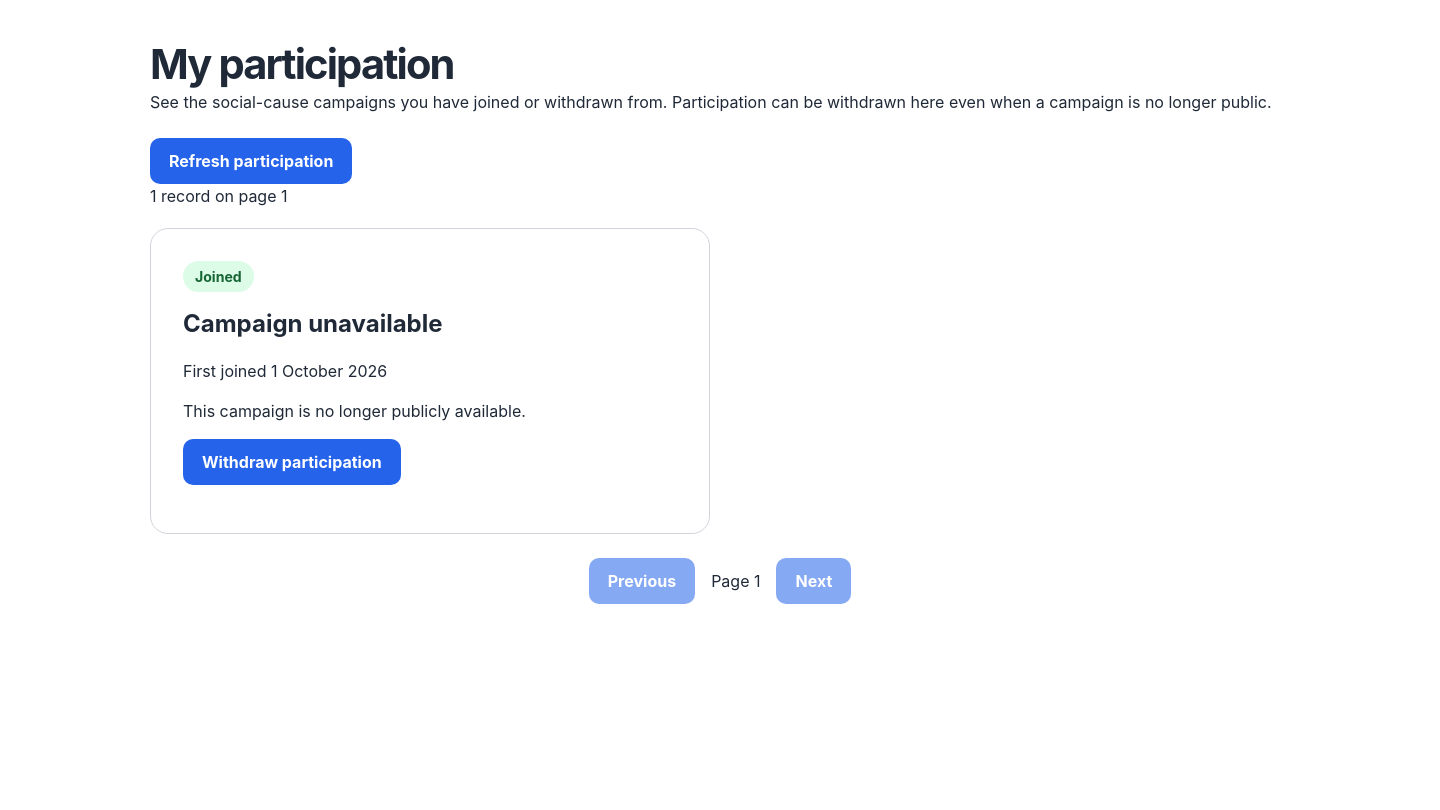
My participation › requires a successful status read after an uncertain network withdrawal
Click the button "Withdraw participation" at (292, 462), box x1=183 y1=439 x2=401 y2=485
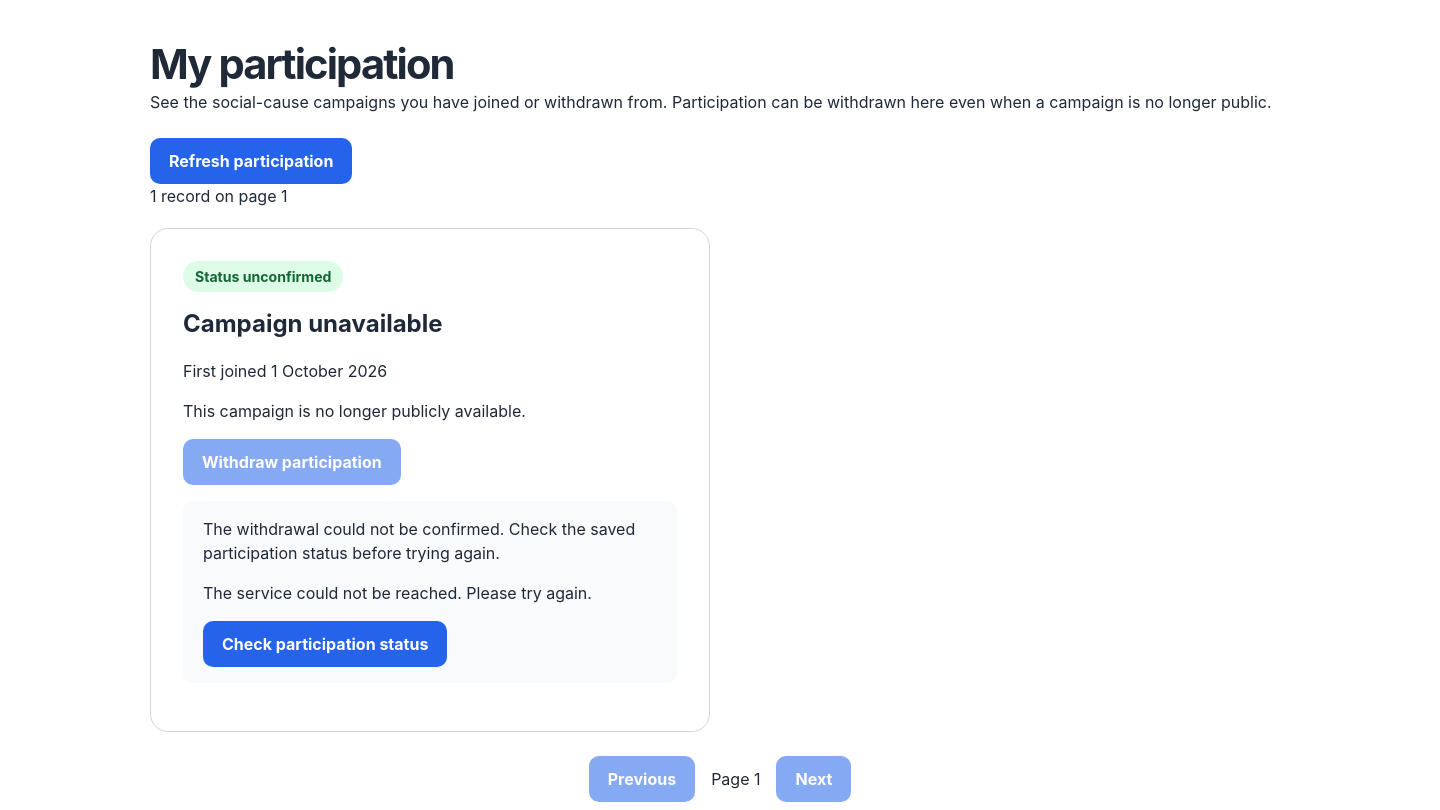
expect the text "Status unconfirmed" is shown: met, box x1=183 y1=261 x2=344 y2=292
expect the button "Withdraw participation" is disabled: met, box x1=183 y1=439 x2=401 y2=485
Click the button "Check participation status" at (325, 644), box x1=203 y1=621 x2=447 y2=667
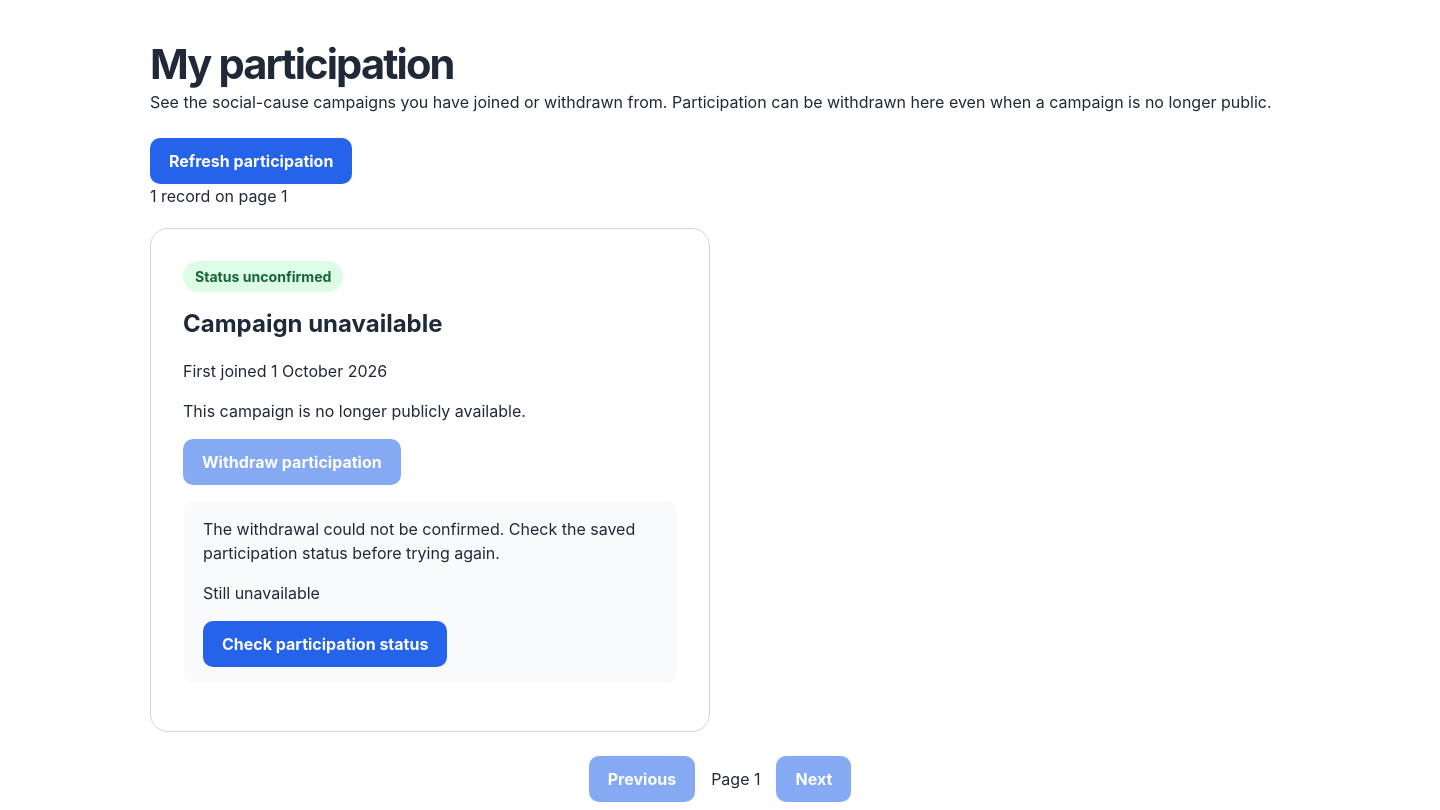
expect the button "Withdraw participation" is disabled: met, box x1=183 y1=439 x2=401 y2=485
expect the text "Still unavailable" is shown: met, box x1=203 y1=583 x2=320 y2=603
Click the button "Check participation status" at (325, 644), box x1=203 y1=621 x2=447 y2=667
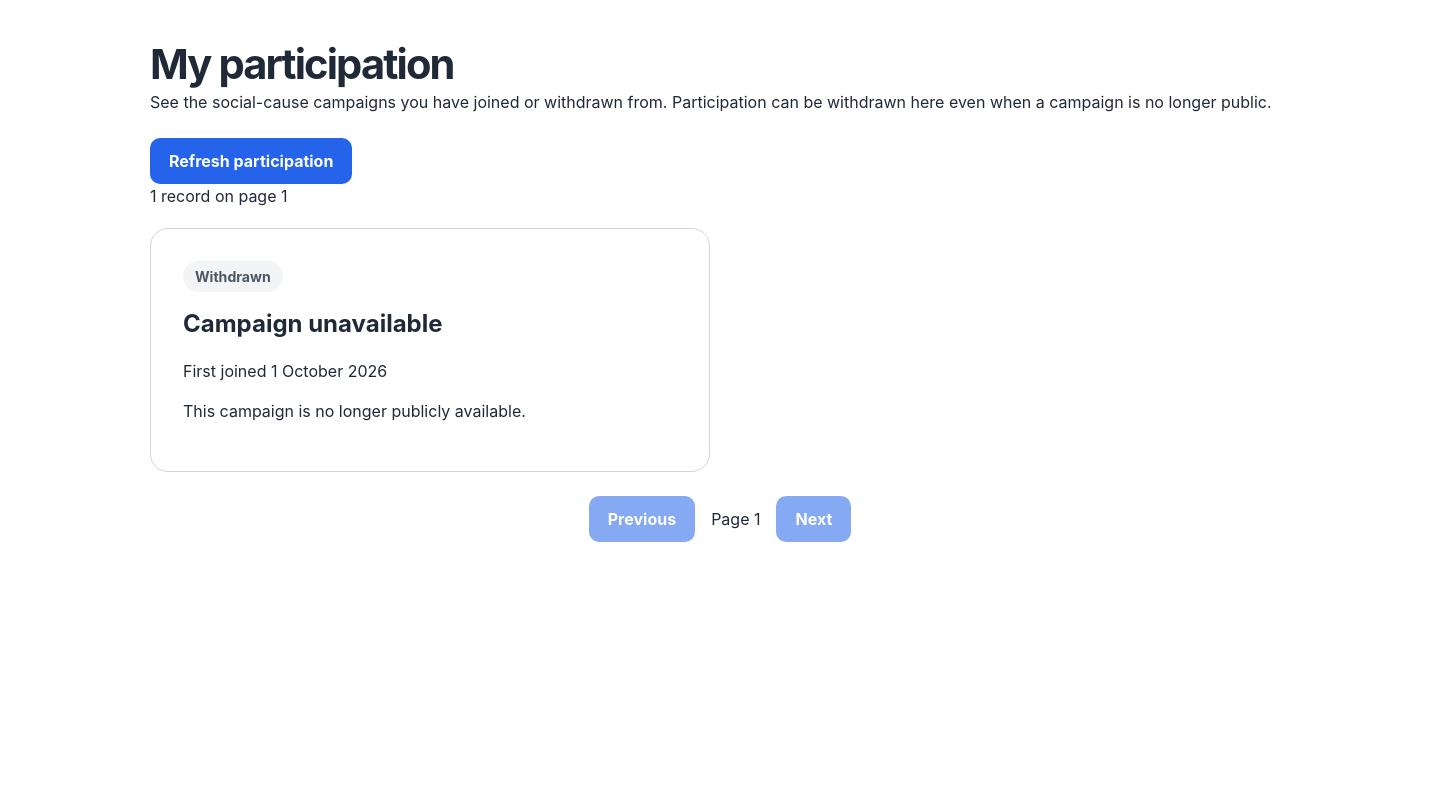
expect the text "Withdrawn" is shown: met, box x1=183 y1=261 x2=283 y2=292
expect the button "Withdraw participation" is gone: met
